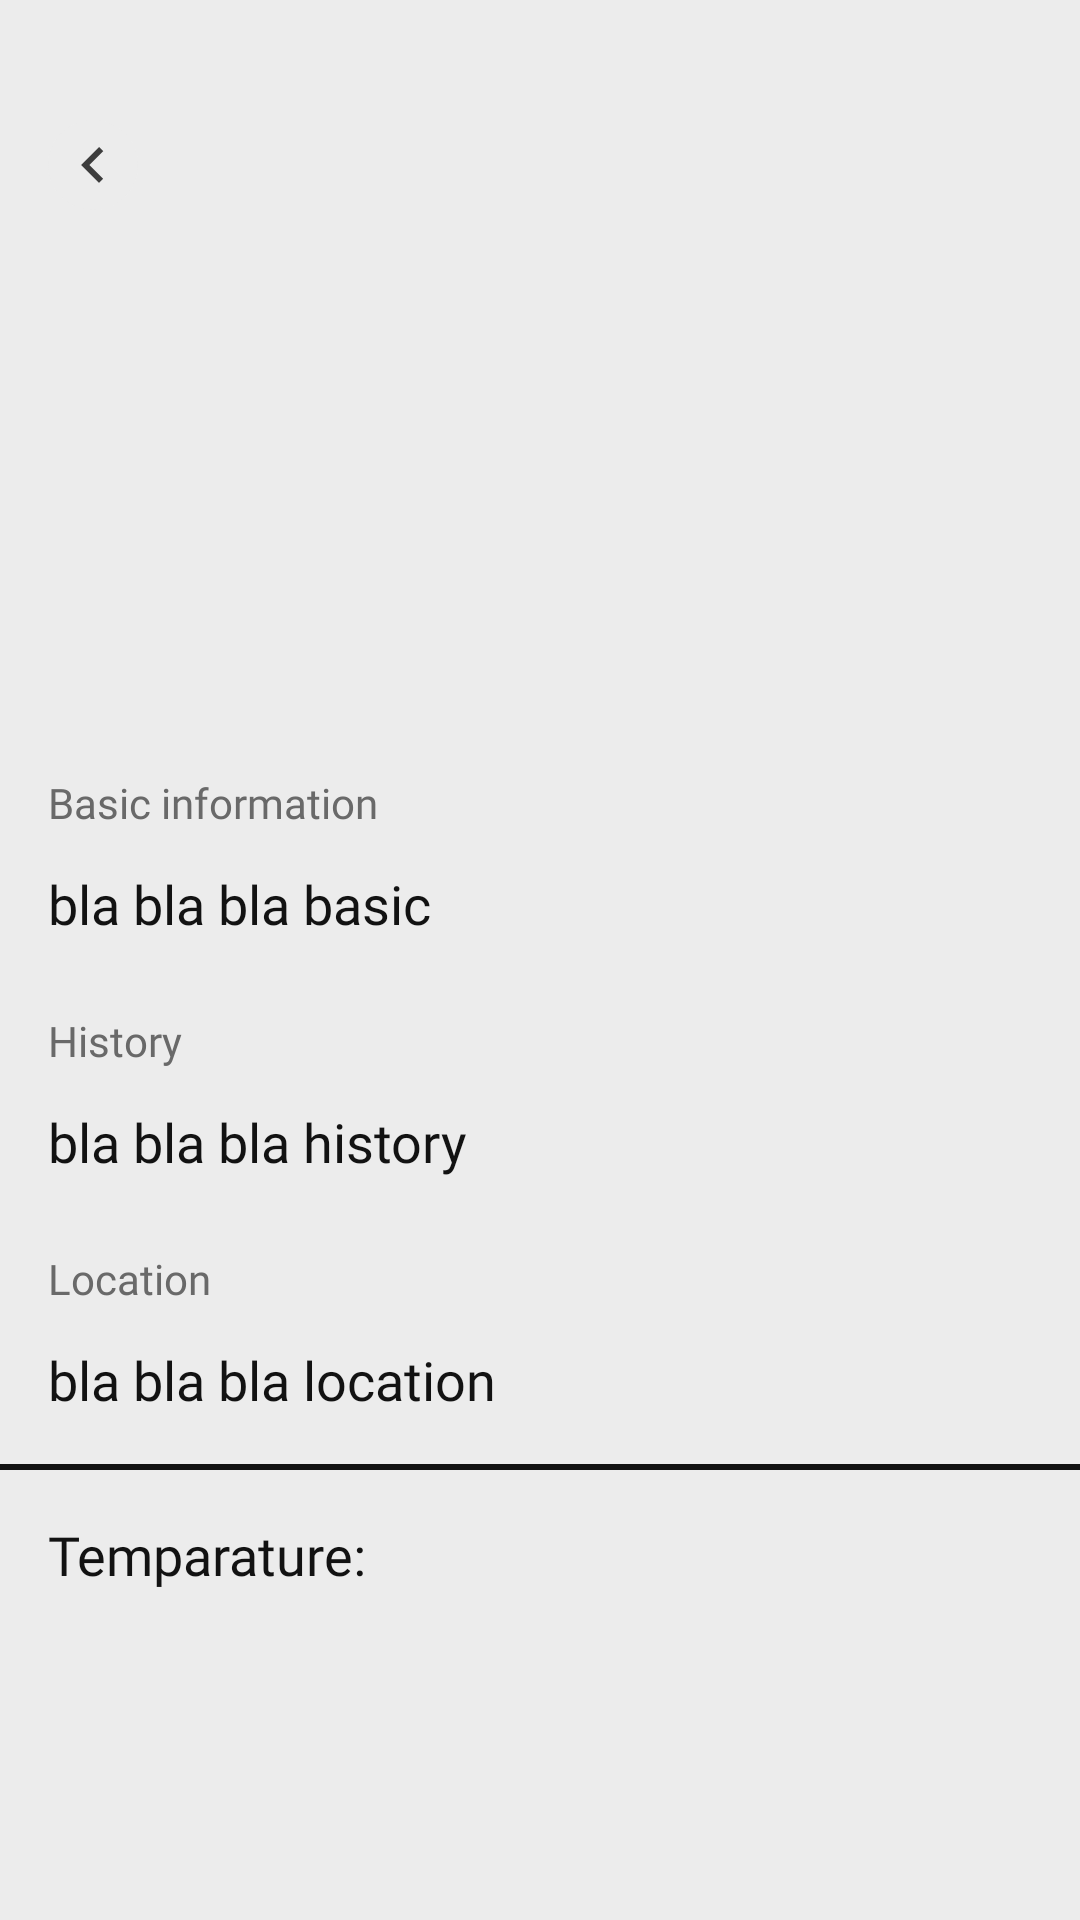

Named icons in this screenshot (1080×1920) and their centers, (x=x, y=y):
arrow back round: (x=92, y=165)
